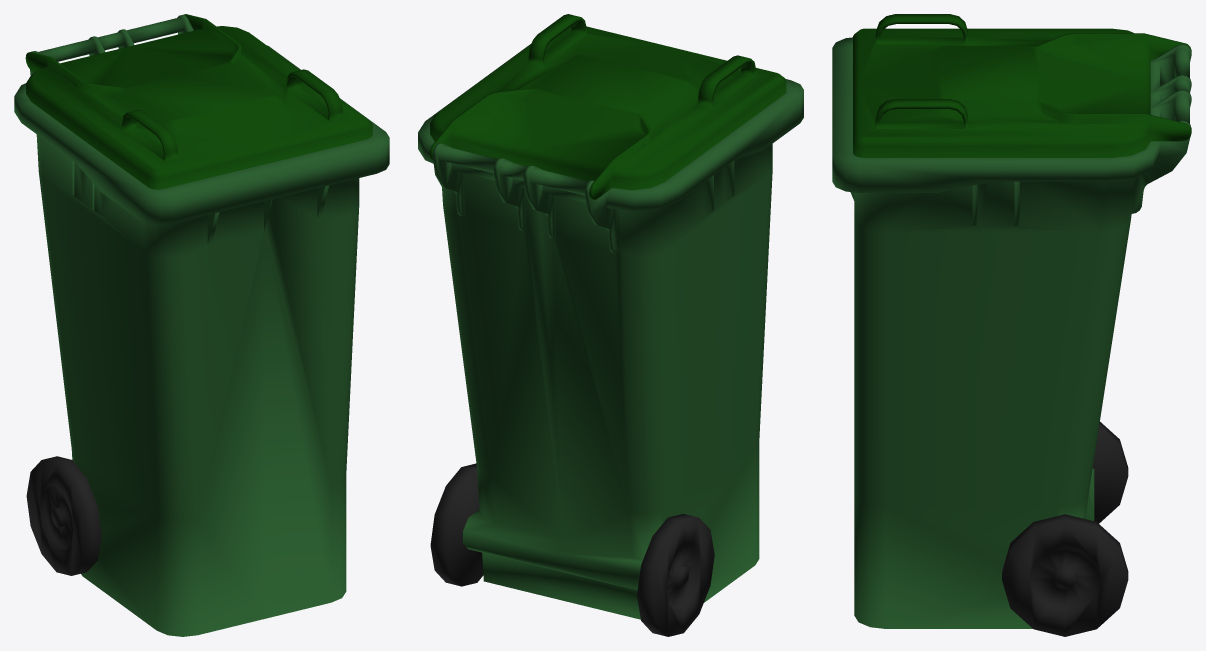
Rendered from Tong Sampah besar.fbx.
3 renders of one model, left to right at view 1: azimuth 30°, elevation 25°; view 2: azimuth 150°, elevation 25°; view 3: azimuth 270°, elevation 25°, orthographic. The views are drawn at different scales.
Parts seen in each view (by area): view 1: badan, kepala, roda; view 2: badan, kepala, roda; view 3: badan, kepala, roda.
Boxes of the visible parts, x1,y1,x2,y2 form: badan: (14,14,389,636); kepala: (25,14,372,189); roda: (26,456,101,575); badan: (418,43,803,619); kepala: (429,14,786,199); roda: (430,463,714,636); badan: (832,37,1191,628); kepala: (853,14,1191,157); roda: (1002,422,1128,636).
Bounding box in the file's own units: 91.25 × 174 × 109.
